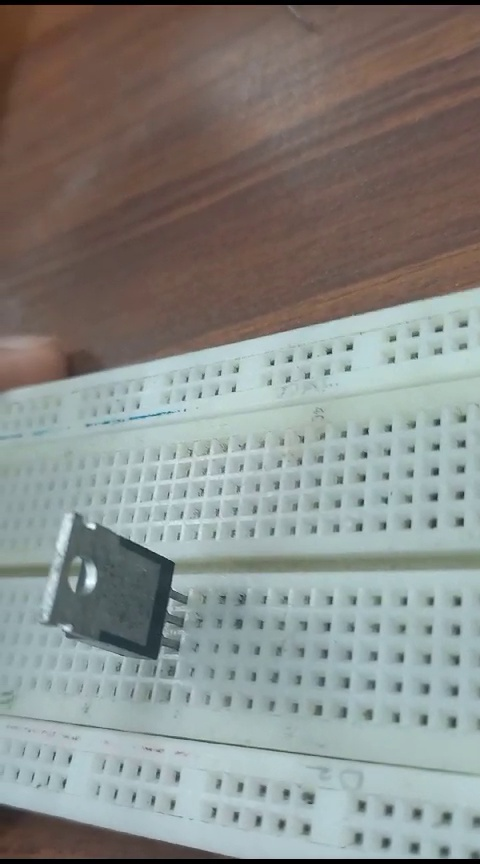voltage regulator: (32, 503, 189, 661)
